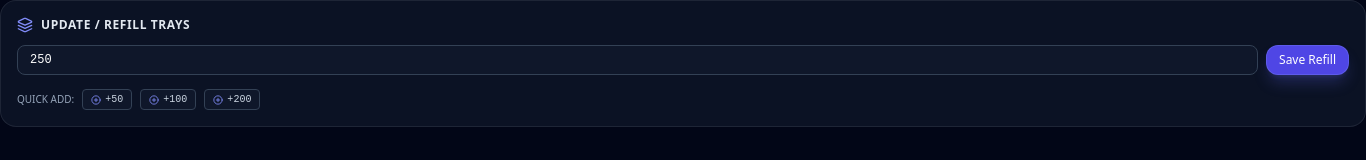
Test: TrayCapacityForm › renders with current capacity and allows submission
This screenshot has width=1366, height=160.
Expected: the heading "Update / Refill Trays" is shown, [41,17,190,33]
Replace the text in the number field showing "250" with "350" at (638, 60), box [17,45,1258,75]
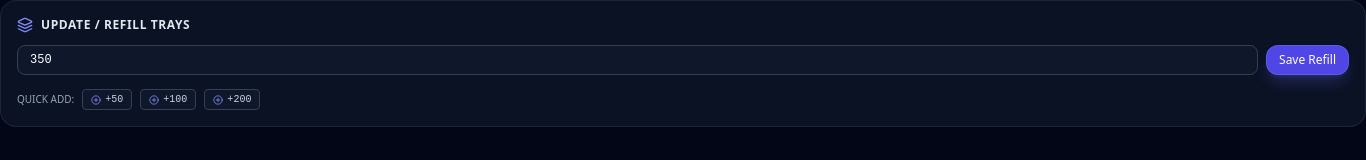
Click the button "Save Refill".
click(1308, 60)  # box [1266,45,1349,75]
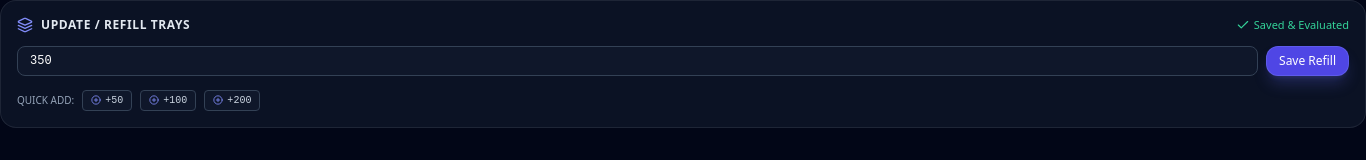
Expected: the text "Saved & Evaluated" is shown, [1236,17,1349,34]
